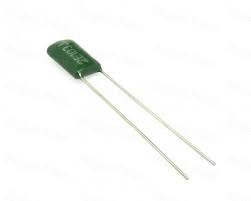ceramic capacitor: (28, 17, 139, 117)
